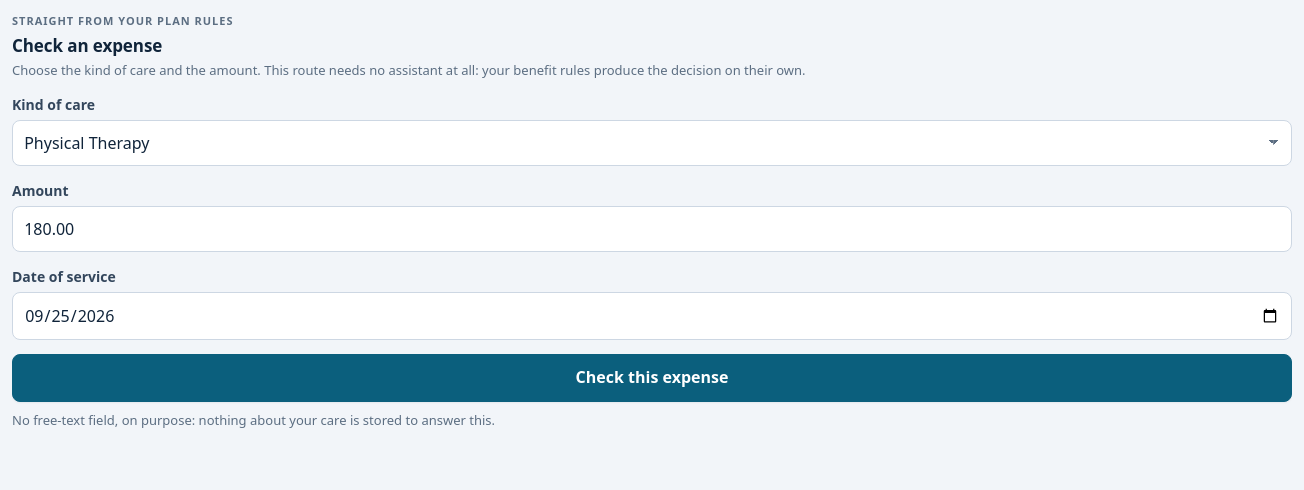
Test: every control can be reached and named without a mouse › announces errors rather than only showing them
// A well-formed amount, so the browser submits and the failure comes from the server.
Click the button "Check this expense" at (652, 378), box [12,354,1292,402]
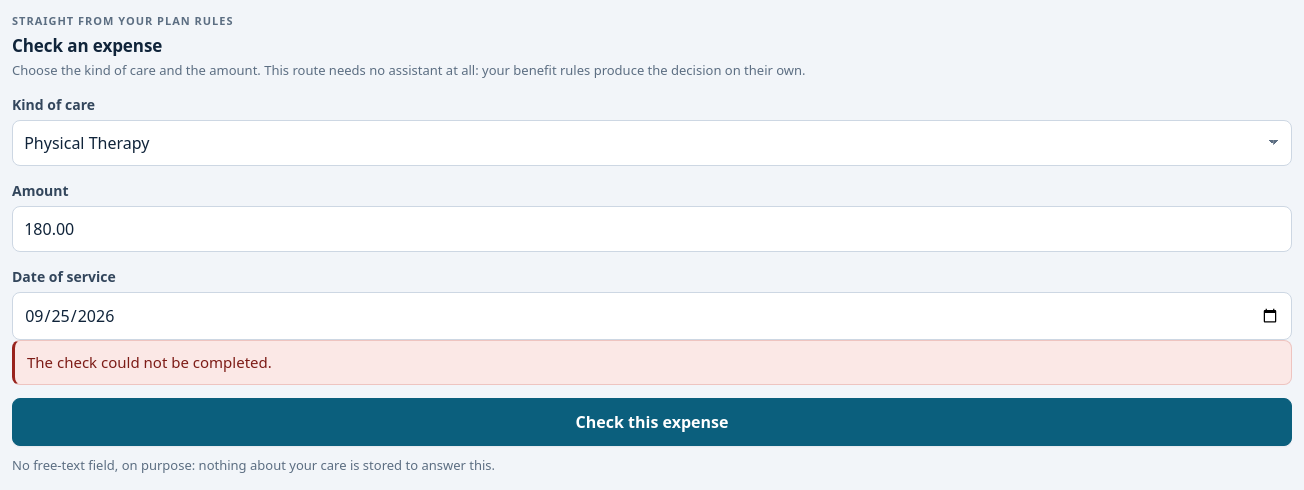
Now the message "The check could not be completed." is shown, box [12,340,1292,385]
